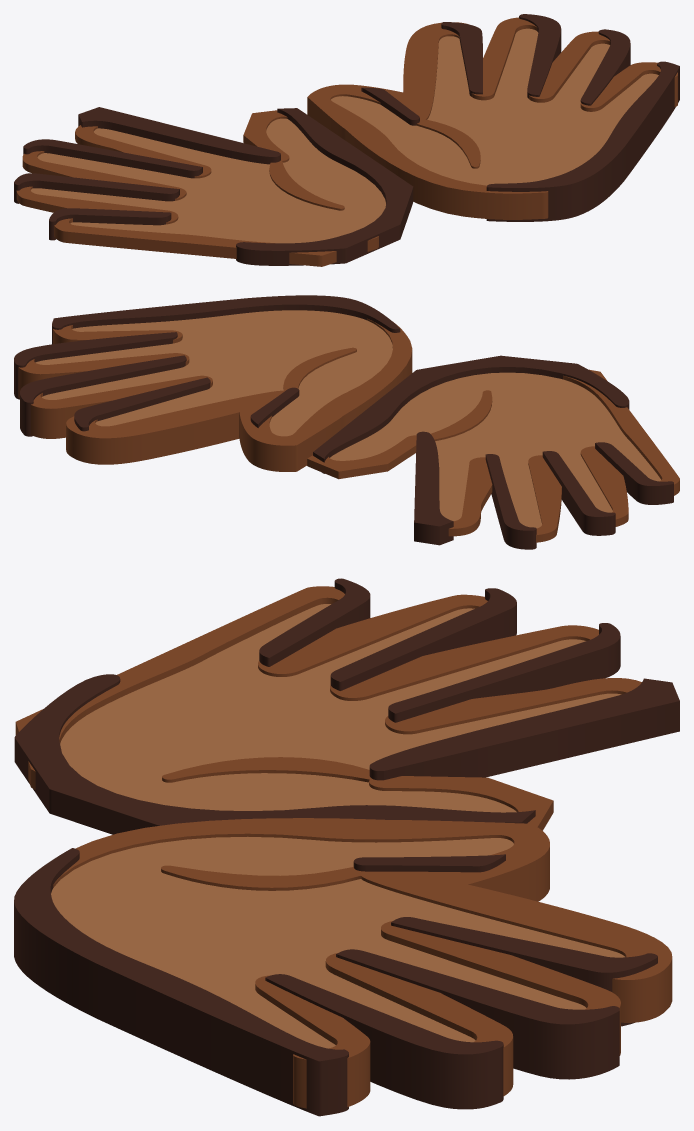
File: emoji_u1f450_1f3fe.glb
3 renders of one model, top to bottom at view 1: azimuth 30°, elevation 25°; view 2: azimuth 150°, elevation 25°; view 3: azimuth 270°, elevation 25°, orthographic. The views are drawn at different scales.
Visible parts, largest first — view 1: emoji_u1f450_1f3fe; view 2: emoji_u1f450_1f3fe; view 3: emoji_u1f450_1f3fe.
Part boxes in pixels (bbox=[...]): emoji_u1f450_1f3fe: bbox=[14, 14, 679, 266]; emoji_u1f450_1f3fe: bbox=[14, 295, 679, 549]; emoji_u1f450_1f3fe: bbox=[14, 578, 679, 1116].
Size of the model in its own units: 0.0347 by 0.0018 by 0.0197.
